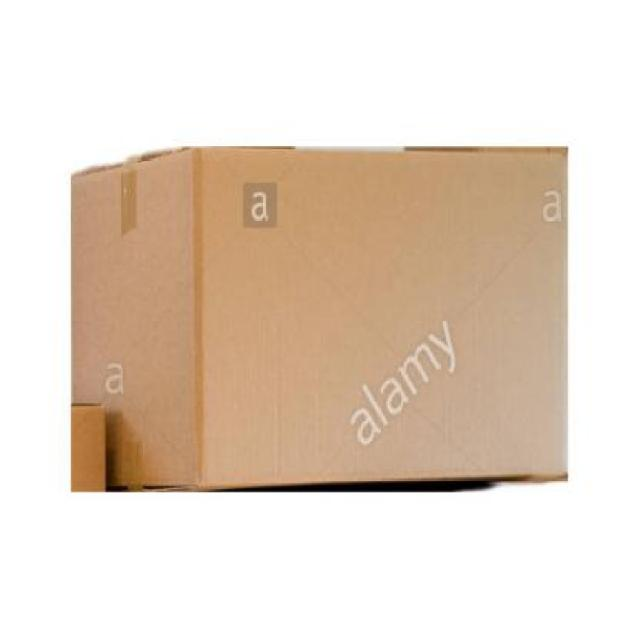cardboxes: (72, 148, 566, 484)
